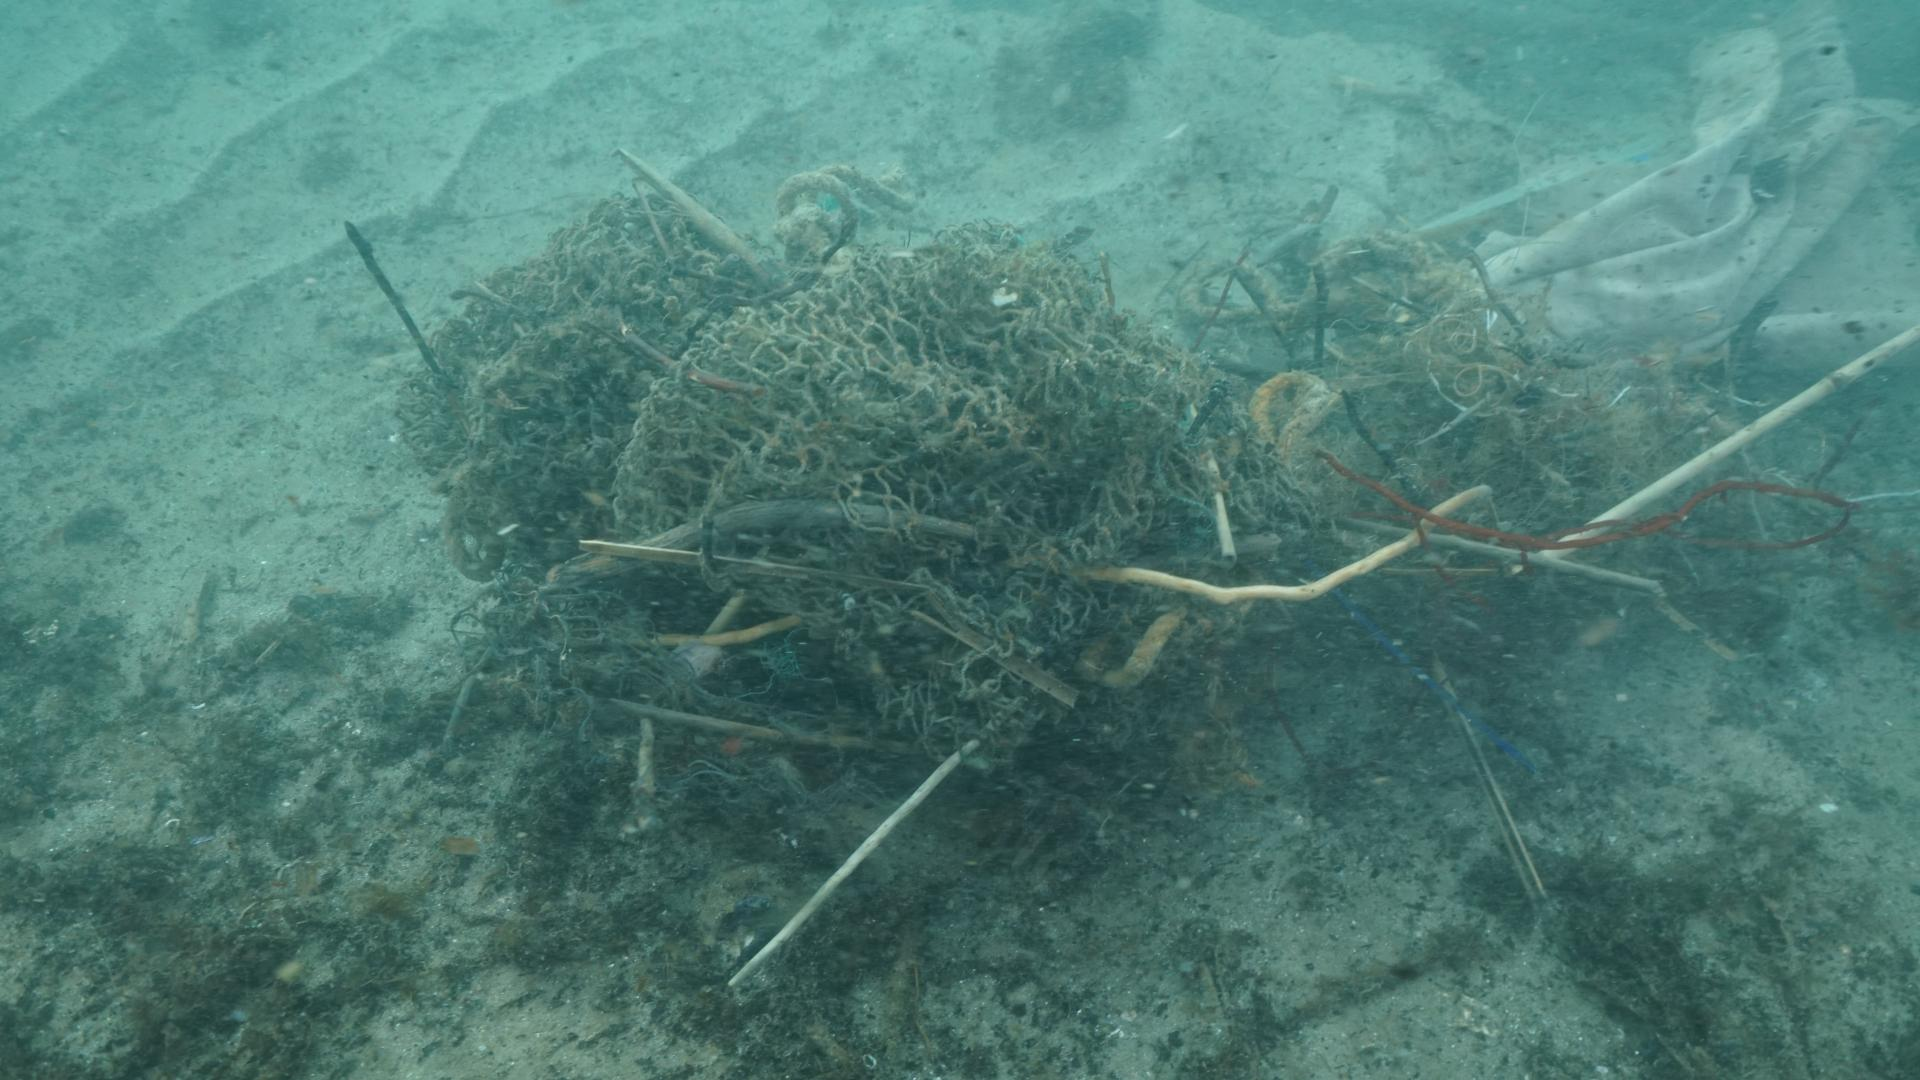bundle of ropes: (1172, 248, 1342, 468)
fish net: (348, 121, 1192, 676)
